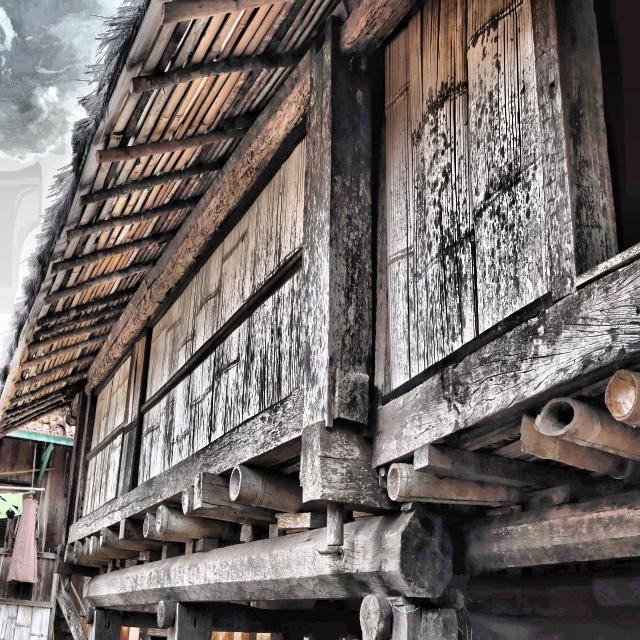roof: (0, 4, 328, 439)
wall: (68, 3, 635, 544)
